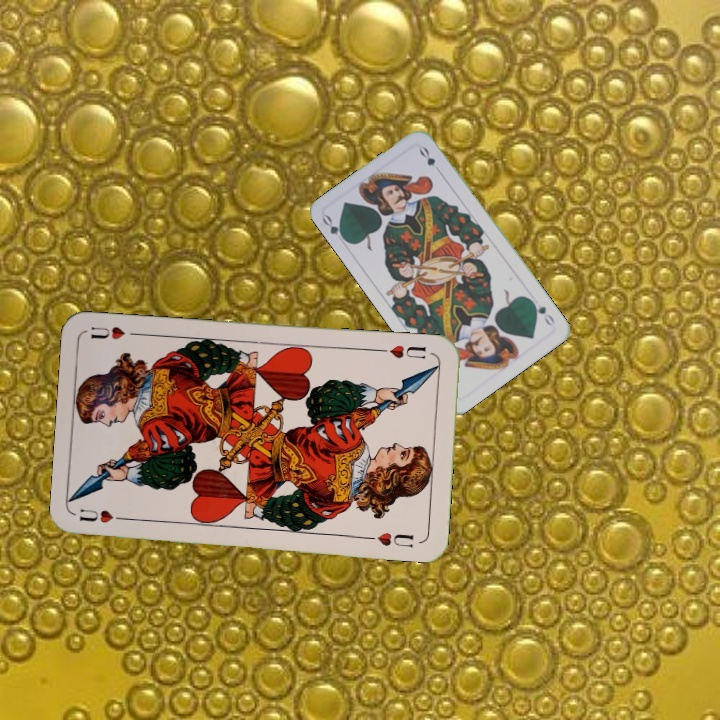GO: (318, 211, 350, 245), (527, 296, 557, 329)
HU: (76, 504, 133, 526), (375, 341, 429, 362)
